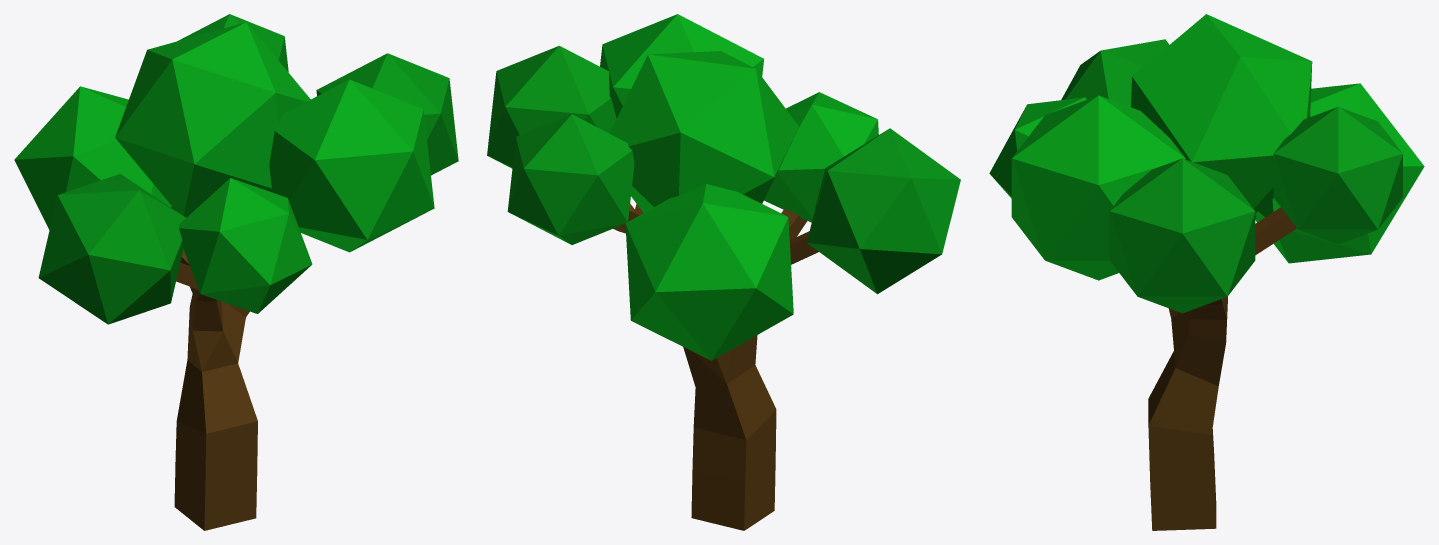
The model's file is Trea.fbx.
3 renders of one model, left to right at view 1: azimuth 30°, elevation 25°; view 2: azimuth 150°, elevation 25°; view 3: azimuth 270°, elevation 25°, orthographic. The views are drawn at different scales.
Visible parts, largest first — view 1: Icosphere.002, Icosphere.004, Cube, Icosphere.006, Icosphere.005, Icosphere.001, Icosphere.003, Icosphere; view 2: Icosphere.001, Icosphere.002, Icosphere.006, Cube, Icosphere, Icosphere.003, Icosphere.005, Icosphere.004; view 3: Icosphere.002, Icosphere.004, Icosphere.003, Cube, Icosphere, Icosphere.001, Icosphere.006, Icosphere.005.
Boxes of the visible parts, x1=… form: Icosphere.002: x1=115, y1=22, x2=310, y2=217; Icosphere.004: x1=269, y1=79, x2=434, y2=252; Cube: x1=174, y1=249, x2=257, y2=530; Icosphere.006: x1=38, y1=174, x2=185, y2=324; Icosphere.005: x1=179, y1=178, x2=312, y2=313; Icosphere.001: x1=14, y1=86, x2=175, y2=229; Icosphere.003: x1=316, y1=53, x2=458, y2=175; Icosphere: x1=177, y1=14, x2=288, y2=72; Icosphere.001: x1=625, y1=184, x2=793, y2=360; Icosphere.002: x1=610, y1=51, x2=798, y2=212; Icosphere.006: x1=806, y1=128, x2=960, y2=294; Cube: x1=613, y1=203, x2=818, y2=530; Icosphere: x1=507, y1=114, x2=634, y2=244; Icosphere.003: x1=487, y1=45, x2=616, y2=168; Icosphere.005: x1=764, y1=92, x2=878, y2=222; Icosphere.004: x1=600, y1=14, x2=763, y2=118; Icosphere.002: x1=1131, y1=14, x2=1312, y2=213; Icosphere.004: x1=1011, y1=95, x2=1185, y2=280; Icosphere.003: x1=1109, y1=158, x2=1255, y2=313; Cube: x1=1148, y1=207, x2=1296, y2=530; Icosphere: x1=1273, y1=107, x2=1402, y2=244; Icosphere.001: x1=1255, y1=83, x2=1424, y2=263; Icosphere.006: x1=1061, y1=39, x2=1169, y2=106; Icosphere.005: x1=989, y1=97, x2=1086, y2=198.
Size of the model in its own units: 456 by 471 by 379.
